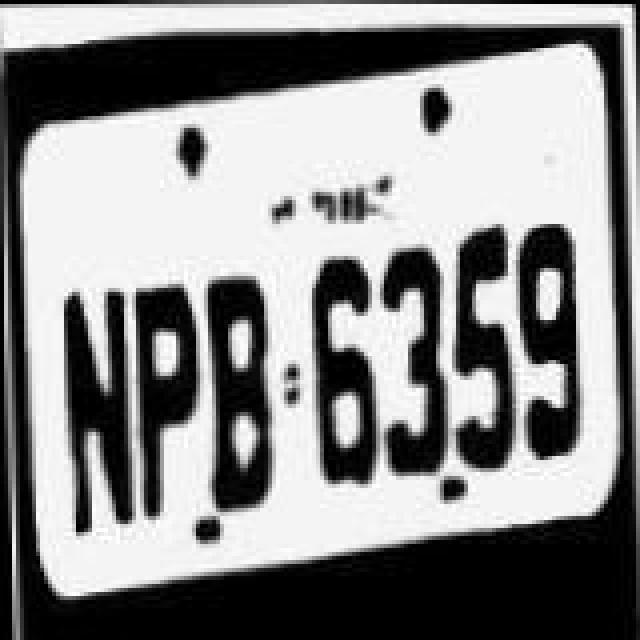3: (370, 242, 454, 470)
5: (438, 224, 522, 472)
6: (294, 244, 386, 496)
9: (512, 212, 592, 468)
B: (202, 264, 290, 512)
N: (52, 268, 136, 524)
P: (128, 274, 204, 514)
